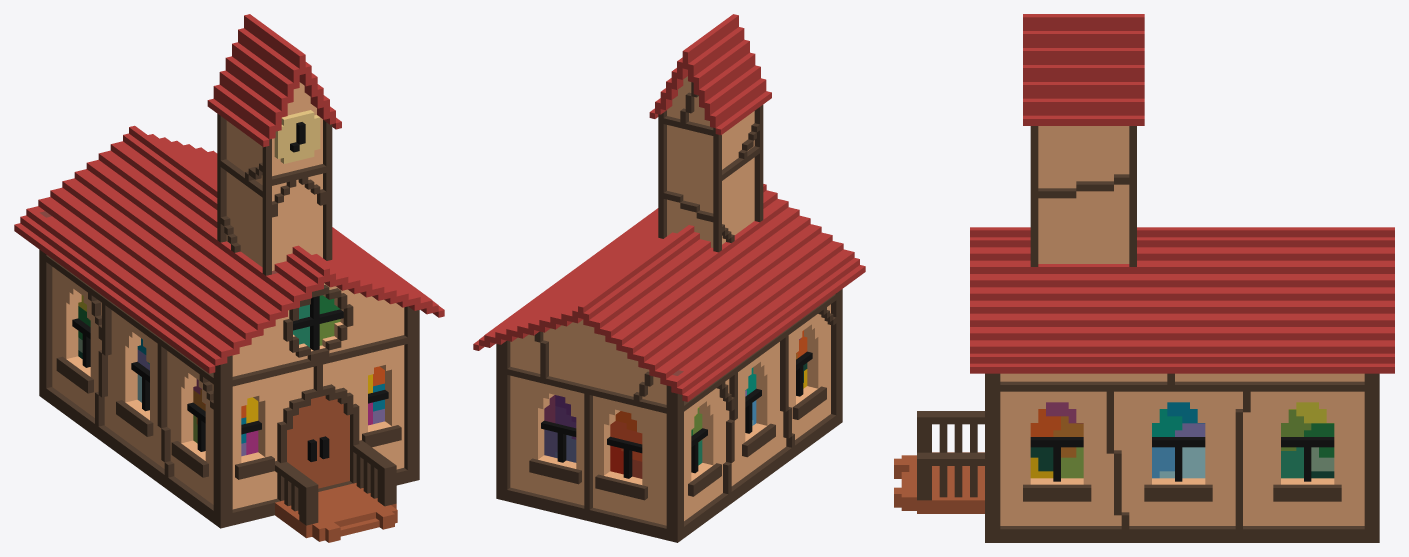
File: Church.fbx
The picture shows the model from 3 angles, left to right: view 1: azimuth 30°, elevation 25°; view 2: azimuth 150°, elevation 25°; view 3: azimuth 270°, elevation 25°; orthographic projection. The views are drawn at different scales.
Parts seen in each view (by area): view 1: Church__concept_:Mesh; view 2: Church__concept_:Mesh; view 3: Church__concept_:Mesh.
Part boxes in pixels (left/top/right/bottom): Church__concept_:Mesh: left=14, top=14, right=444, bottom=542; Church__concept_:Mesh: left=473, top=14, right=865, bottom=542; Church__concept_:Mesh: left=894, top=14, right=1394, bottom=542.
Size of the model in its own units: 3.9 by 6.9 by 6.6.
Materials: 1 (1 with a texture image).
